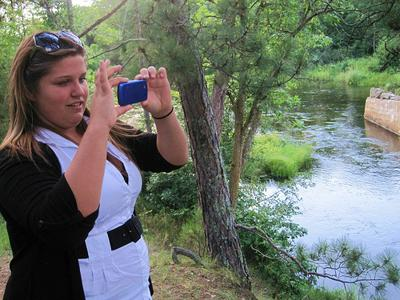person: (2, 31, 189, 300)
